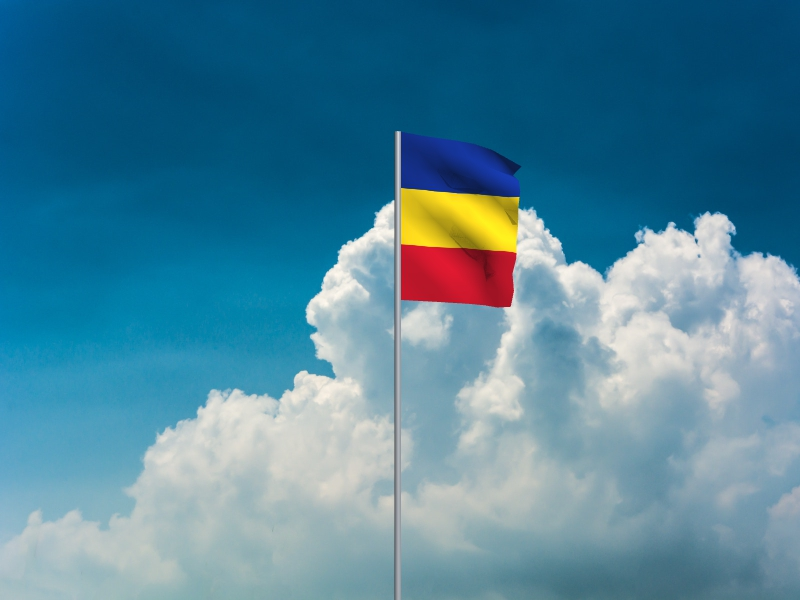ro: (401, 133, 524, 309)
